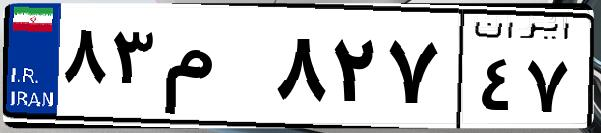2: (330, 28, 385, 110)
3: (110, 28, 158, 98)
4: (475, 38, 525, 113)
7: (385, 28, 445, 110), (525, 38, 570, 115)
8: (270, 28, 330, 110), (57, 26, 110, 100)
م: (158, 20, 270, 120)
